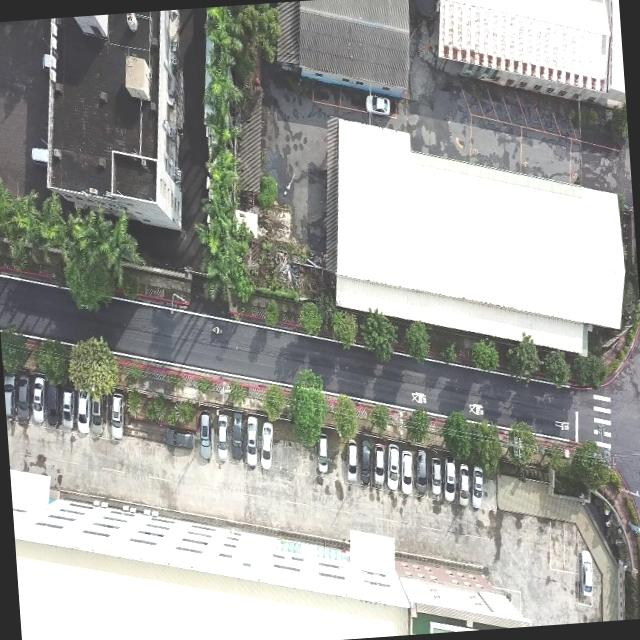bike: (210, 324, 223, 334)
car: (578, 548, 596, 604), (242, 414, 260, 468), (228, 409, 245, 462), (29, 374, 47, 424), (13, 374, 31, 424), (163, 423, 194, 452), (256, 419, 274, 468), (107, 390, 125, 439), (213, 414, 231, 462), (342, 438, 360, 486), (197, 411, 214, 461), (385, 442, 402, 492), (397, 447, 414, 495), (412, 446, 429, 494), (442, 455, 459, 503), (87, 388, 104, 436), (364, 90, 393, 118), (370, 441, 388, 486), (314, 430, 332, 474), (469, 463, 486, 508), (428, 454, 444, 500), (59, 386, 75, 431), (46, 382, 61, 429), (74, 390, 90, 434), (358, 438, 372, 488), (456, 461, 471, 505), (3, 373, 16, 422), (124, 12, 138, 31)
